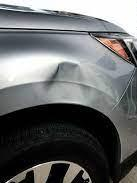dent: (36, 56, 119, 118)
